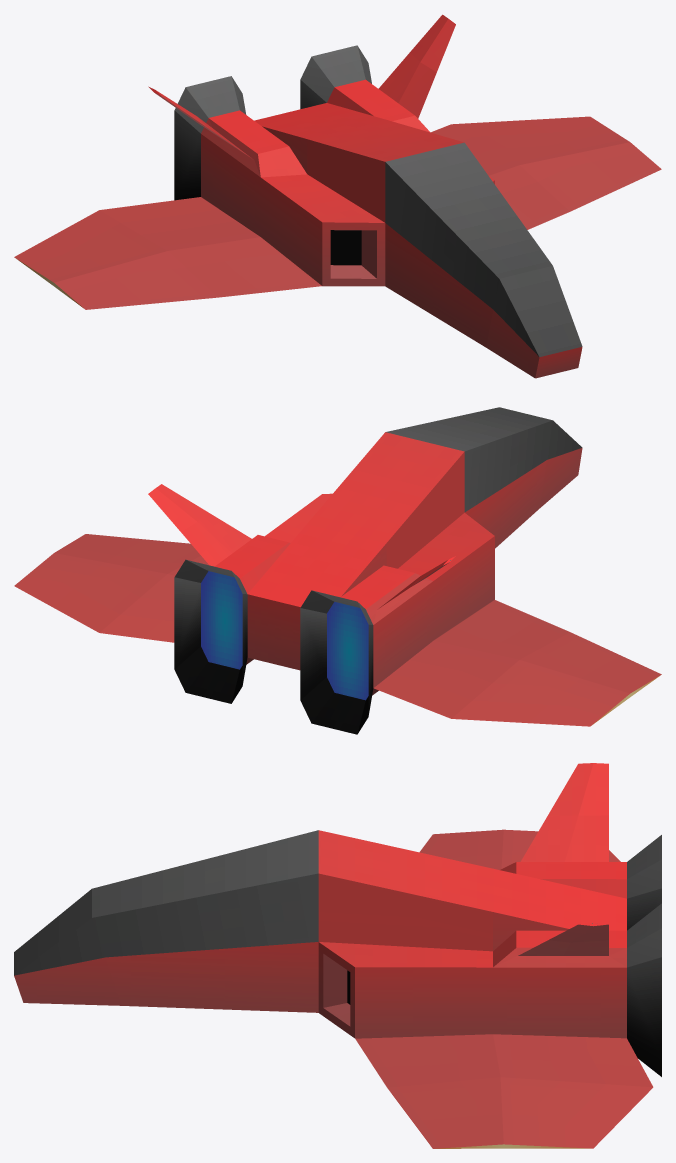
Rendered from PlayerShip_V2.obj.
3 views of the same model, one above another, from view 1: azimuth 30°, elevation 25°; view 2: azimuth 150°, elevation 25°; view 3: azimuth 270°, elevation 25° (orthographic). The views are drawn at different scales.
Visible parts, largest first — view 1: Ship; view 2: Ship; view 3: Ship.
Part boxes in pixels (bbox=[...]): Ship: bbox=[14, 14, 661, 378]; Ship: bbox=[14, 407, 661, 734]; Ship: bbox=[14, 763, 661, 1148].
Size of the model in its own units: 1.21 by 0.3369 by 1.06.
